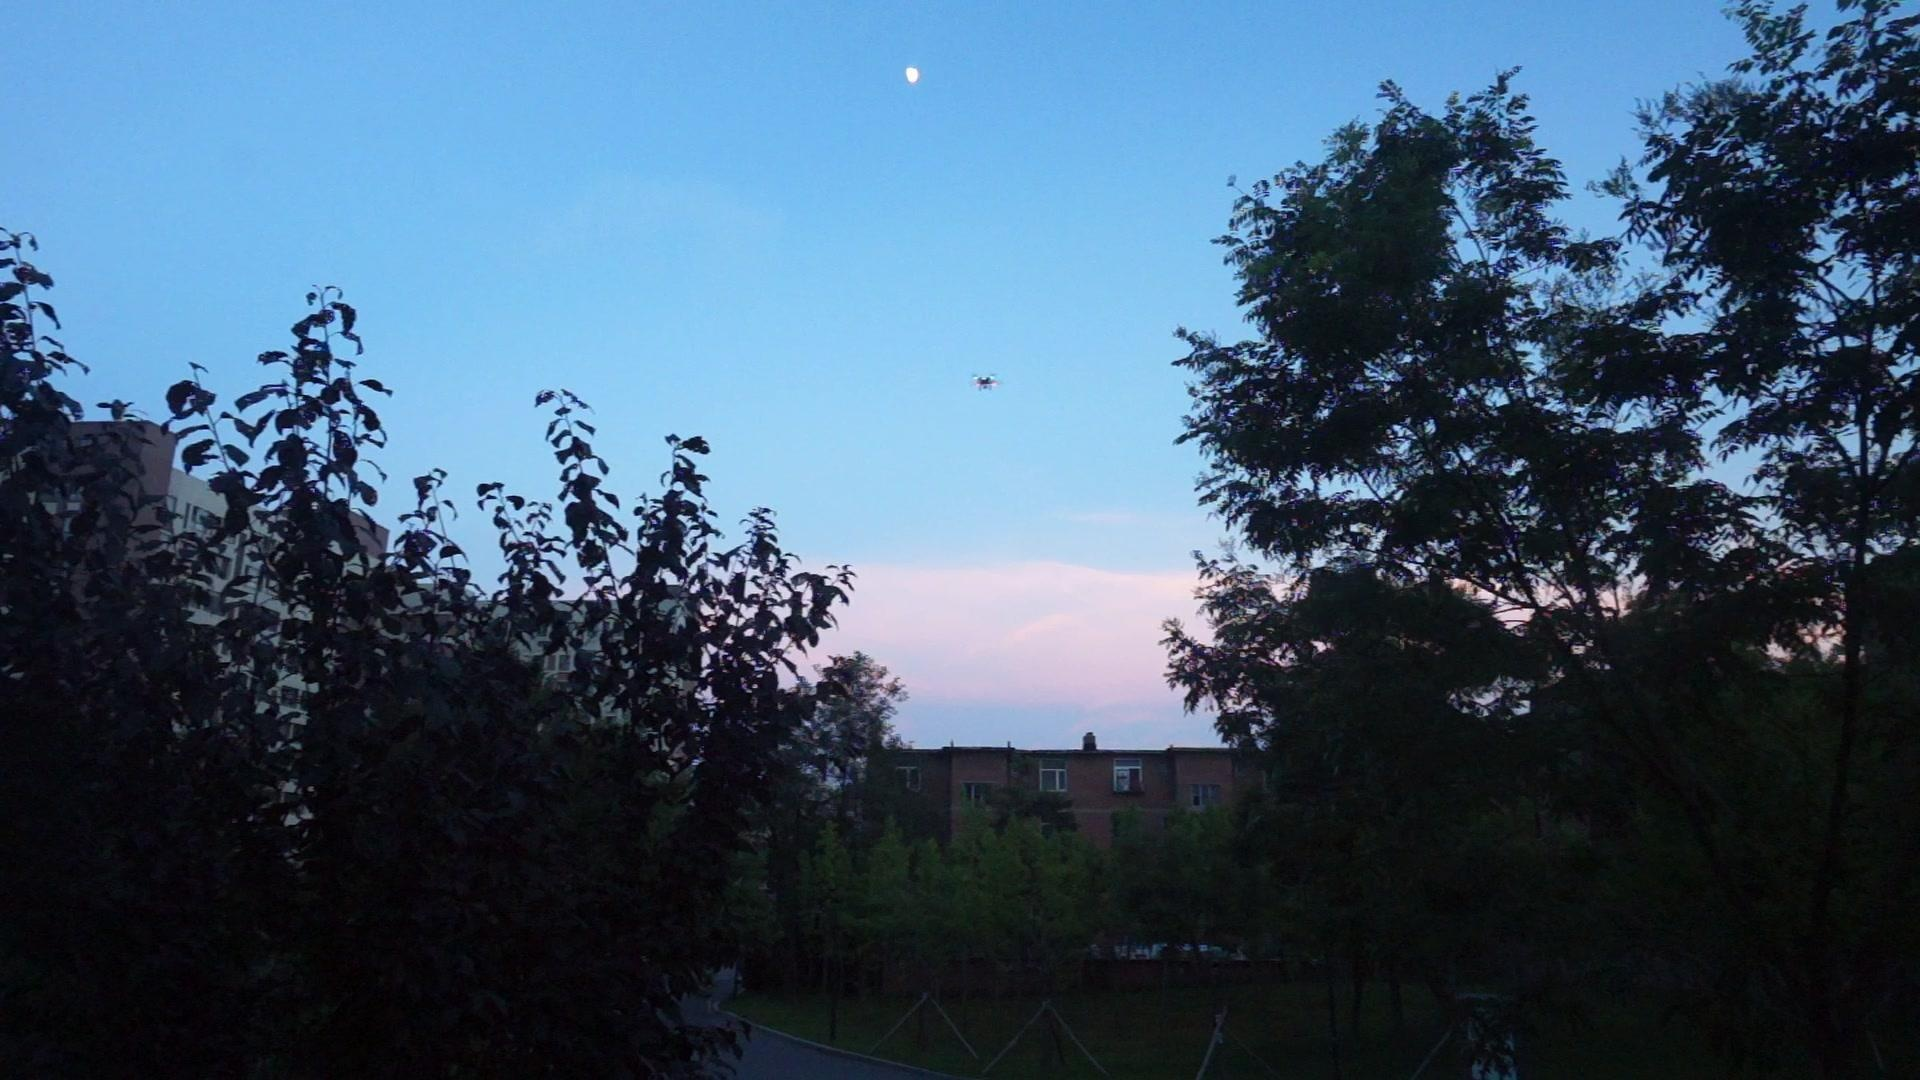UAV: (971, 373, 1004, 393)
